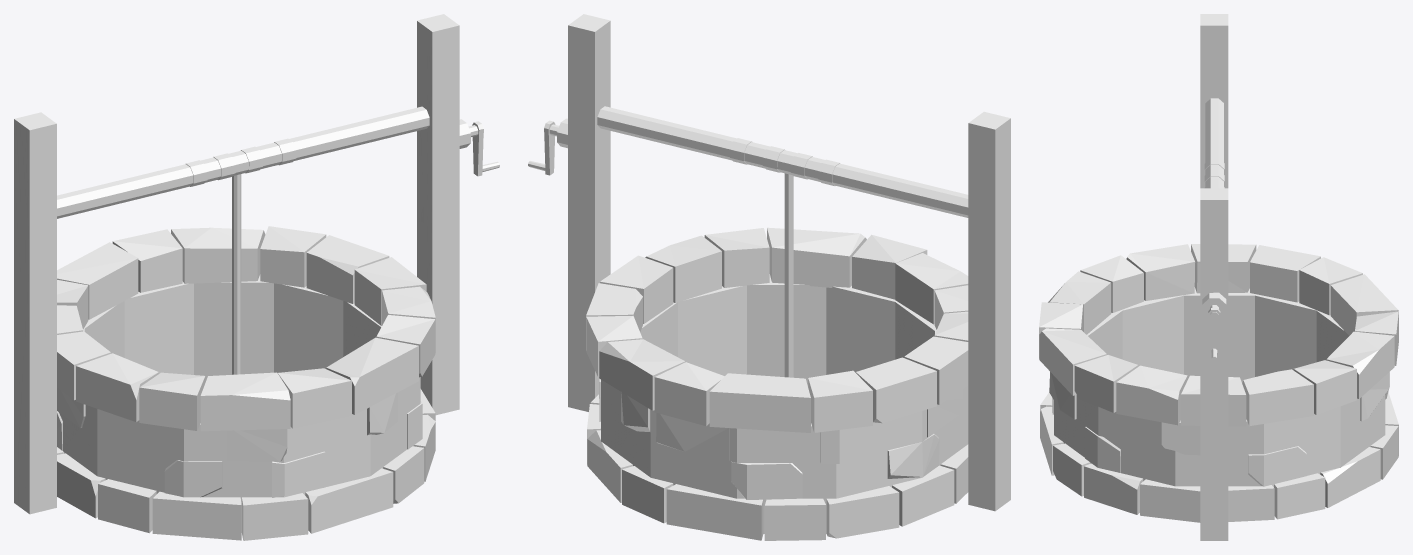
The model's file is Bld_Well_01.glb.
3 views of the same model, side by side, from view 1: azimuth 30°, elevation 25°; view 2: azimuth 150°, elevation 25°; view 3: azimuth 270°, elevation 25° (orthographic). The views are drawn at different scales.
Parts seen in each view (by area): view 1: Bld_Well_01, Bld_Well_Crank_01; view 2: Bld_Well_01, Bld_Well_Crank_01; view 3: Bld_Well_01, Bld_Well_Crank_01.
Part boxes in pixels (<box>): Bld_Well_01: <box>14,14,459,540</box>; Bld_Well_Crank_01: <box>459,119,499,176</box>; Bld_Well_01: <box>568,14,1010,540</box>; Bld_Well_Crank_01: <box>528,118,567,175</box>; Bld_Well_01: <box>1039,14,1398,540</box>; Bld_Well_Crank_01: <box>1202,292,1226,361</box>.
Bounding box in the file's own units: 2.6 × 2.01 × 1.92.
Materials: 1 (1 with a texture image).
